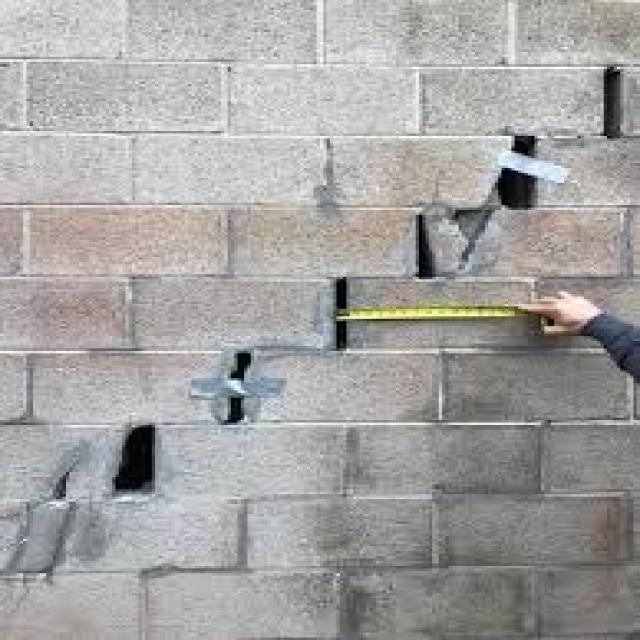Crack: (0, 59, 627, 509)
